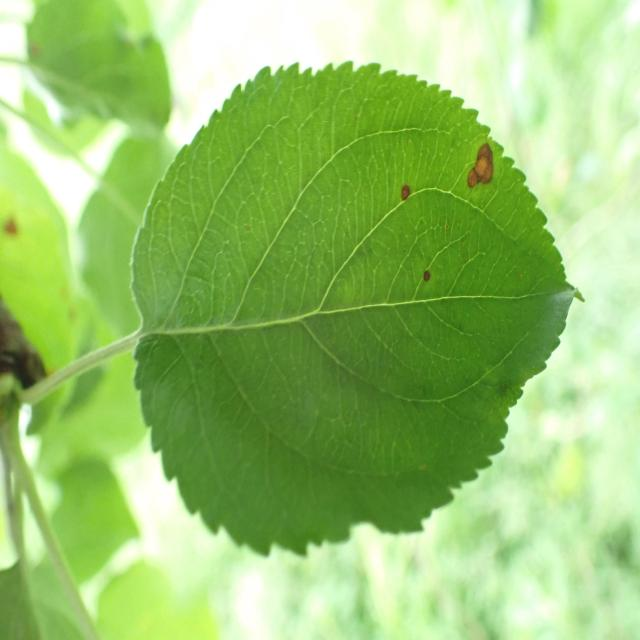Black Rot: (456, 129, 507, 213), (387, 176, 422, 215), (411, 258, 437, 309)
